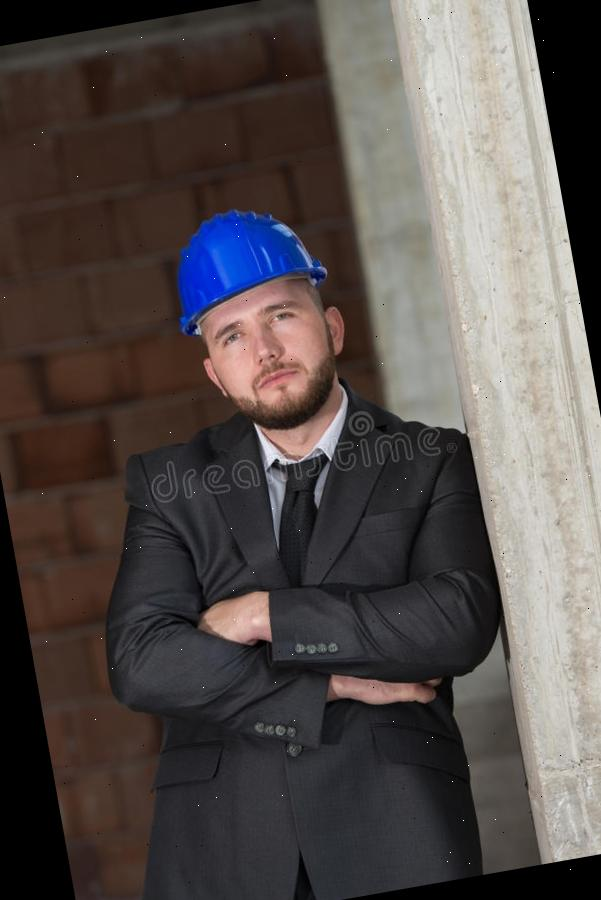helmet: (160, 194, 335, 336)
no_wear: (105, 411, 536, 900)
